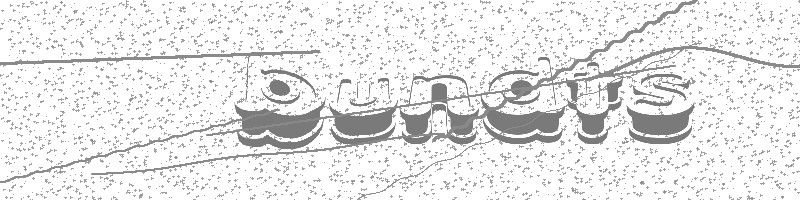b: (234, 49, 325, 150)
d: (478, 54, 567, 143)
n: (400, 75, 478, 146)
s: (625, 71, 696, 144)
t: (565, 54, 624, 145)
u: (328, 77, 400, 144)
